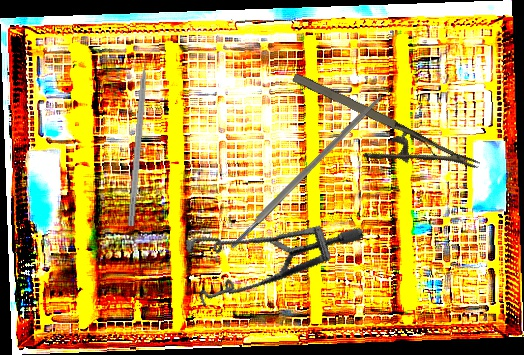Chopper: (127, 45, 160, 227)
Needle Holder: (276, 66, 481, 207)
Scalpel Handle: (227, 93, 385, 250)
Speculum: (165, 173, 366, 349)
